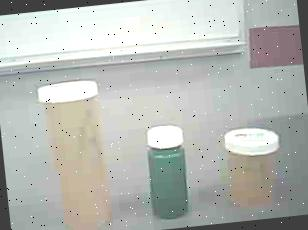Bottle A: (31, 75, 134, 230)
Bottle B: (218, 121, 286, 217)
Bottle C: (139, 118, 206, 228)
